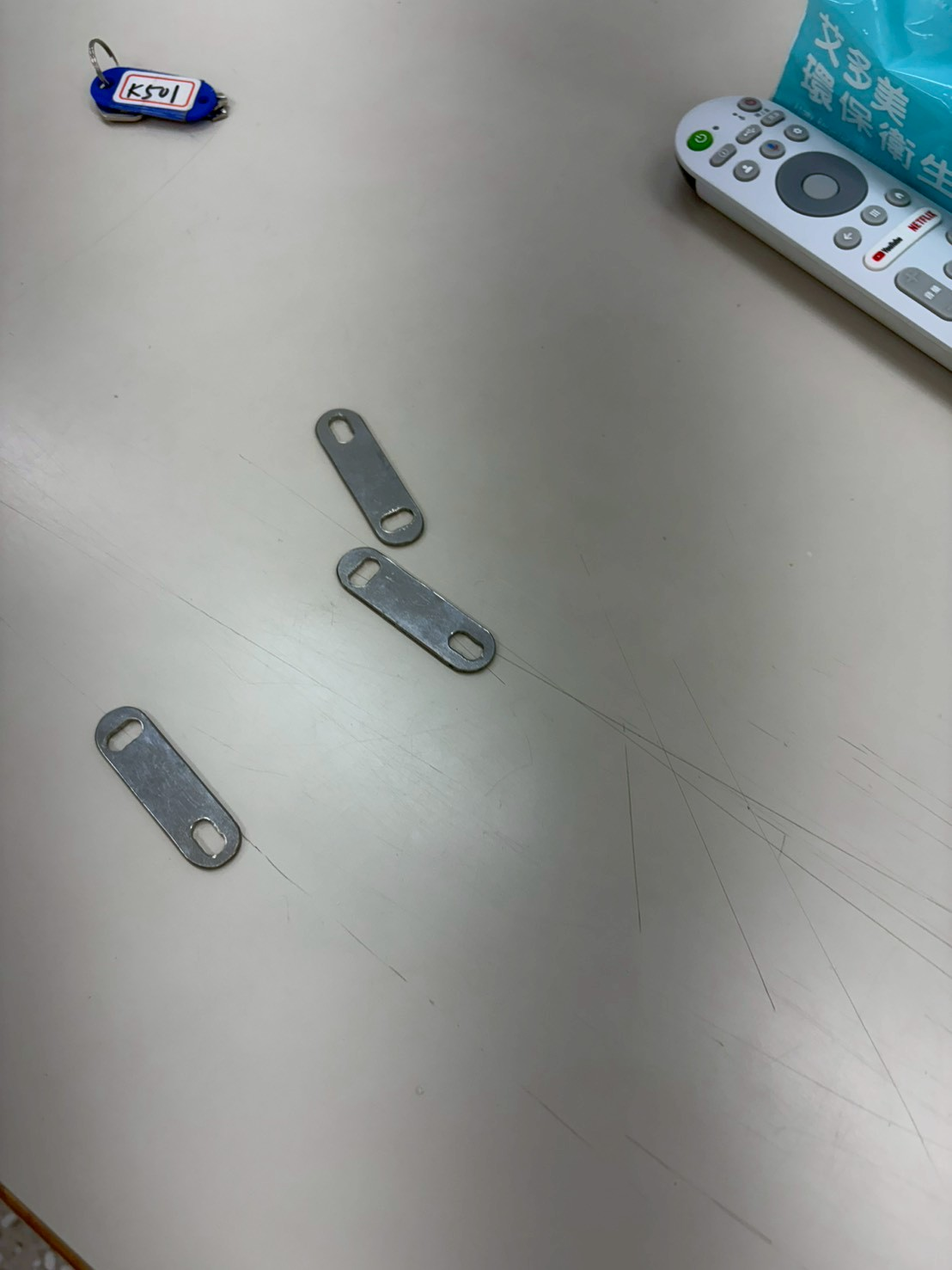Fe: (89, 702, 247, 887), (334, 549, 502, 685), (310, 406, 442, 551)
